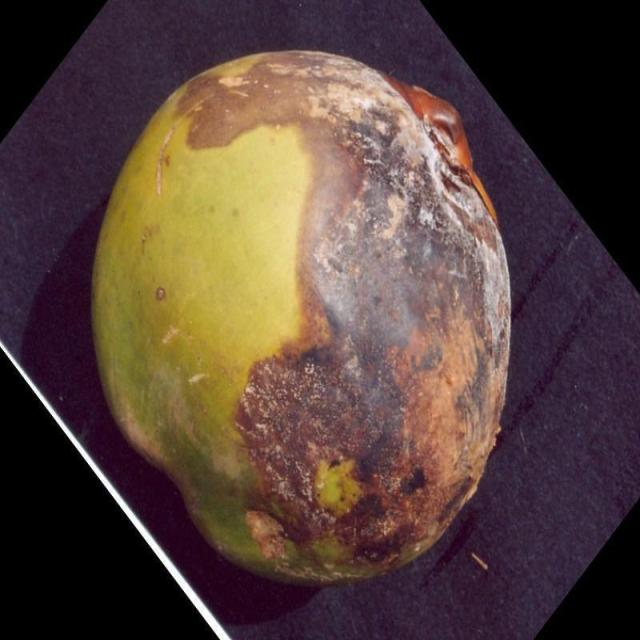damaged: (93, 51, 509, 582)
